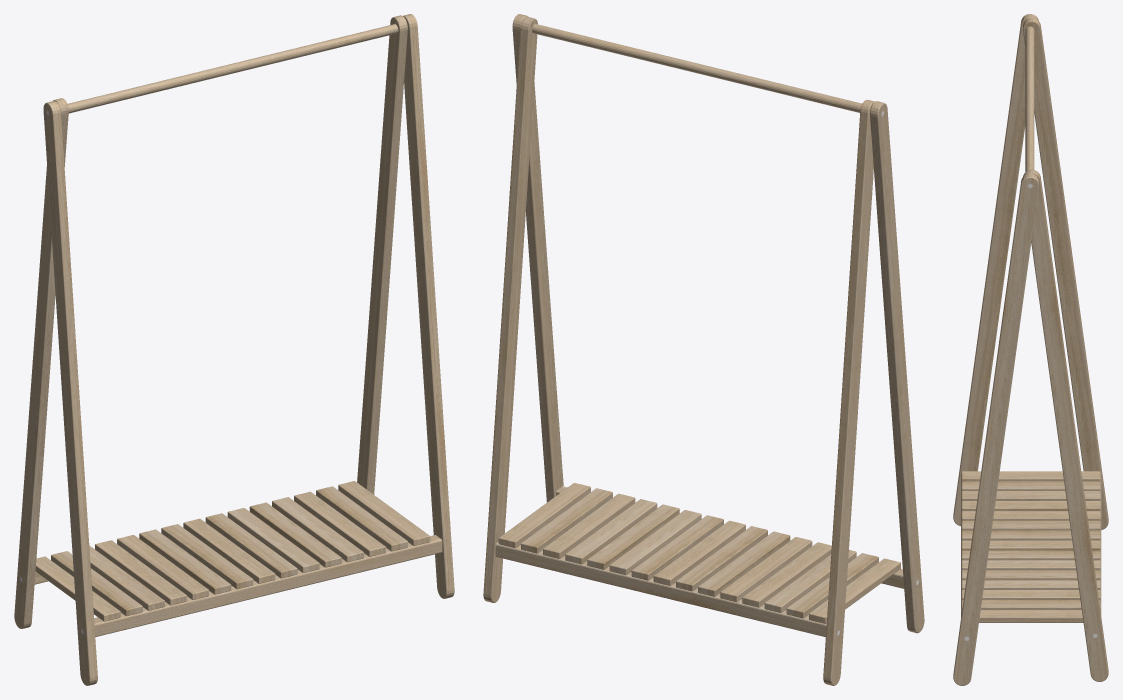
File: solid wood storage shelf type 1-A.fbx
3 views of the same model, side by side, from view 1: azimuth 30°, elevation 25°; view 2: azimuth 150°, elevation 25°; view 3: azimuth 270°, elevation 25° (orthographic). The views are drawn at different scales.
Visible parts, largest first — view 1: solid wood storage shelf type 1-A; view 2: solid wood storage shelf type 1-A; view 3: solid wood storage shelf type 1-A.
Part boxes in pixels (bbox=[...]): solid wood storage shelf type 1-A: bbox=[14, 14, 454, 685]; solid wood storage shelf type 1-A: bbox=[483, 14, 924, 685]; solid wood storage shelf type 1-A: bbox=[953, 14, 1108, 685].
Size of the model in its own units: 0.8591 by 1.25 by 0.3443.
1 material, 1 textured.
